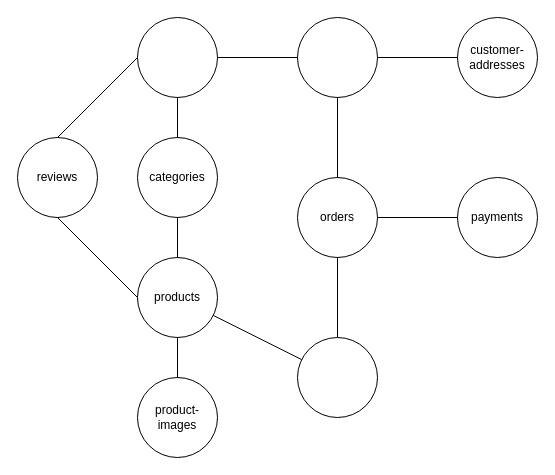
Image size: 555x475. Some labels were removed from this diagram. The box of each missing label's shape, as (x1, y1, x2, y2) in pixels:
cart-items: (136, 16, 218, 98)
order-items: (296, 336, 378, 418)
users: (296, 16, 378, 98)
